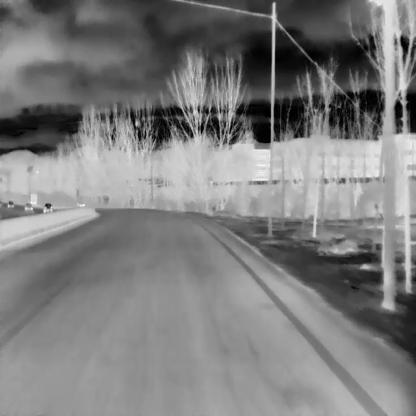car: (42, 202, 52, 212), (22, 202, 32, 210), (6, 200, 13, 206)
